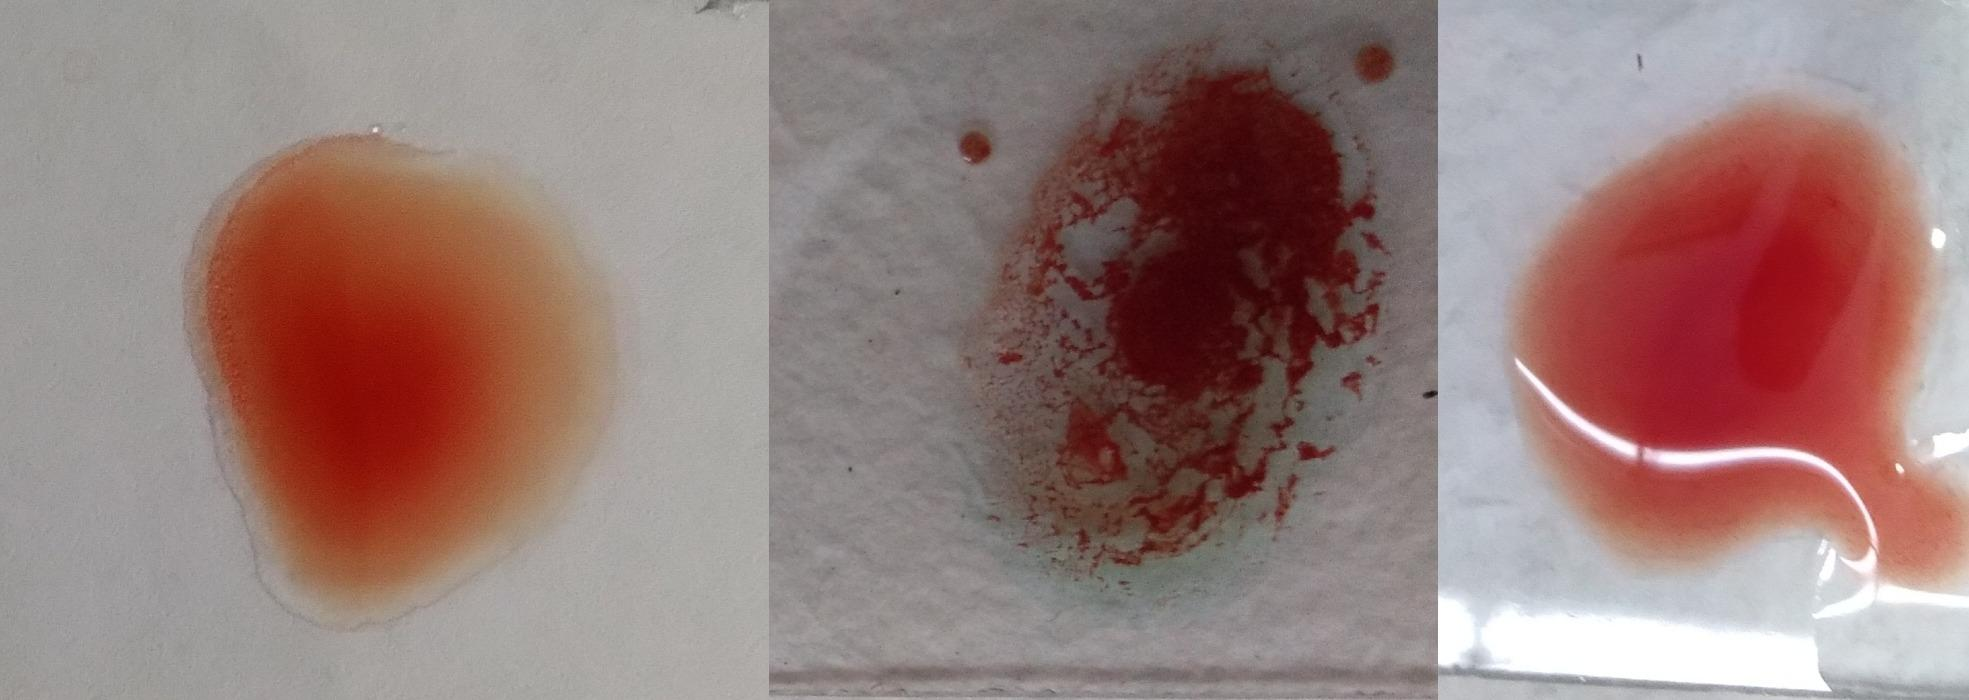A: (948, 53, 1401, 593)
